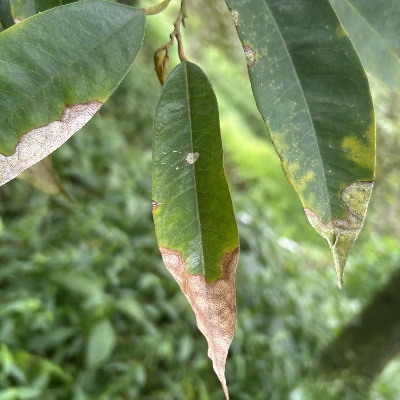Leaf_Colletotrichum: (150, 60, 242, 400)
